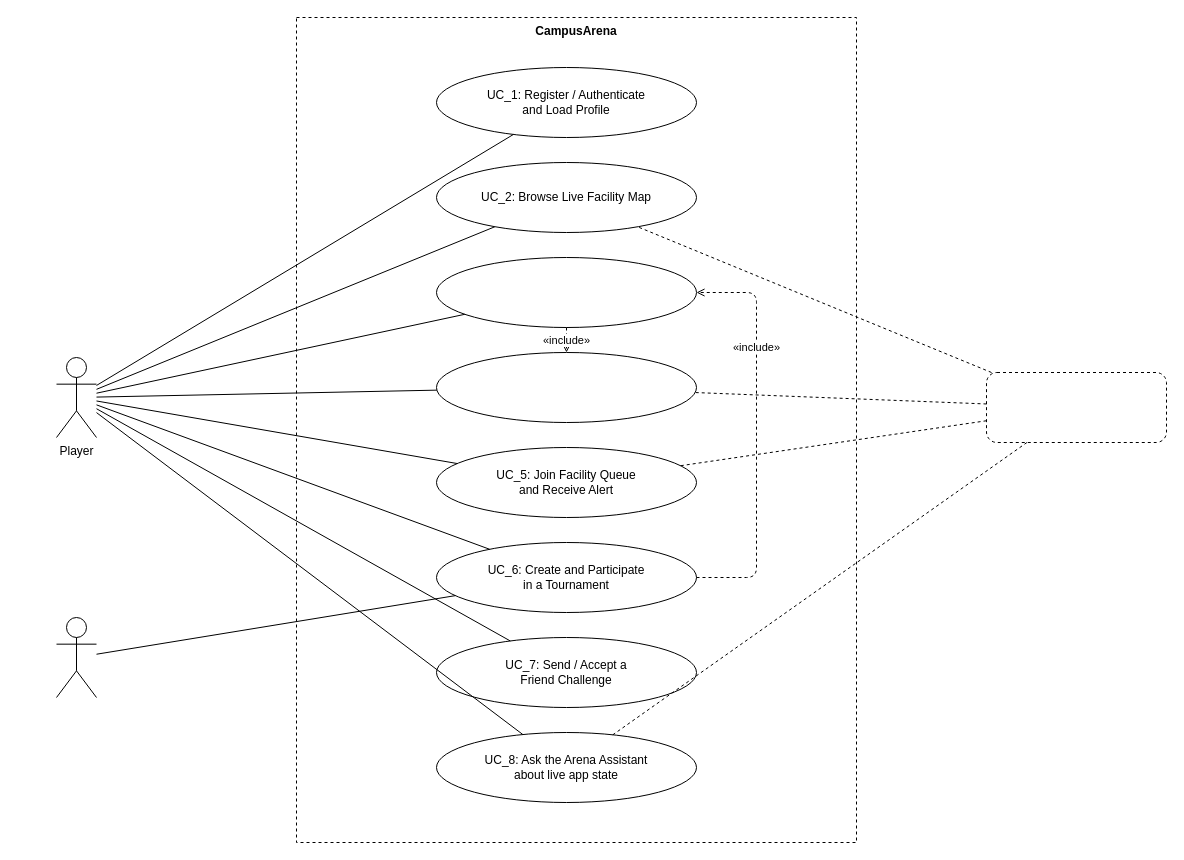
Image size: 1184x860. Some labels were removed from this diagram. Here are the shapes that lost their labels. From the top down, the centre of each, then its label:
At (x=566, y=292): "UC_3: Execute Match via Proof-of-Play Check-In".
At (x=566, y=387): "UC_4: Complete Game and Recalculate ELO".
At (x=1076, y=407): "External Systems «system»".
At (x=76, y=657): "Tournament Organiser".
